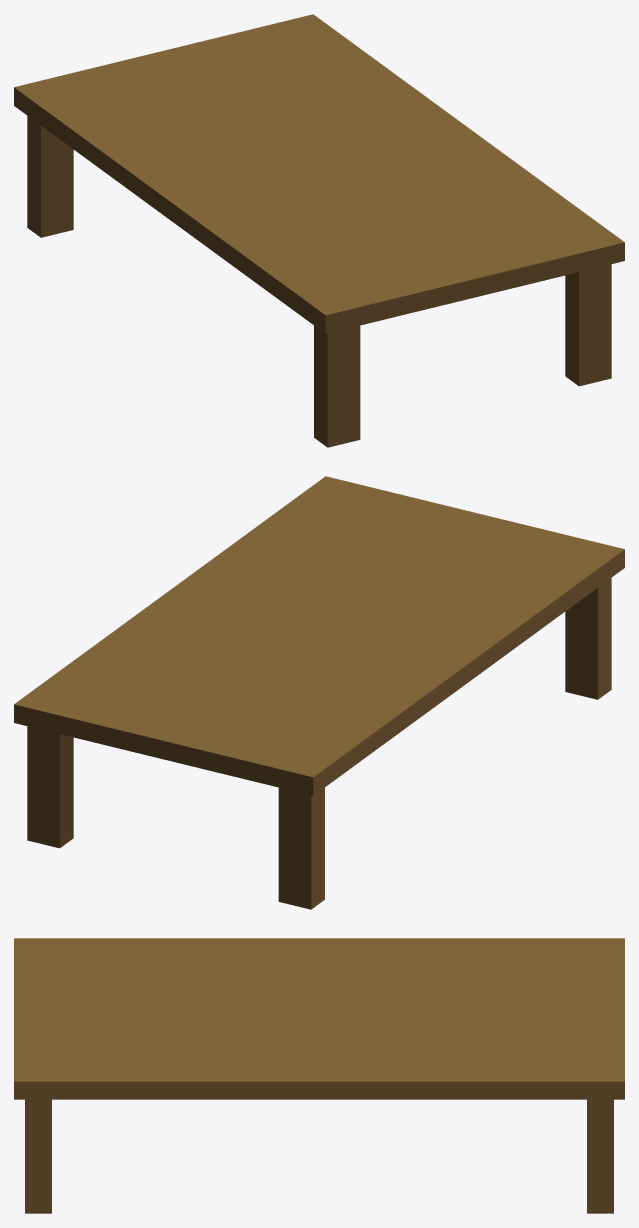
File: desk_3.obj
3 views of the same model, one above another, from view 1: azimuth 30°, elevation 25°; view 2: azimuth 150°, elevation 25°; view 3: azimuth 270°, elevation 25° (orthographic). The views are drawn at different scales.
Parts seen in each view (by area): view 1: Prop_Small_Table_03_Malla.166; view 2: Prop_Small_Table_03_Malla.166; view 3: Prop_Small_Table_03_Malla.166.
Boxes of the visible parts, x1,y1,x2,y2 form: Prop_Small_Table_03_Malla.166: (14, 14, 624, 447); Prop_Small_Table_03_Malla.166: (14, 476, 624, 909); Prop_Small_Table_03_Malla.166: (14, 938, 624, 1213).
Bounding box in the file's own units: 94.08 × 41.55 × 170.
